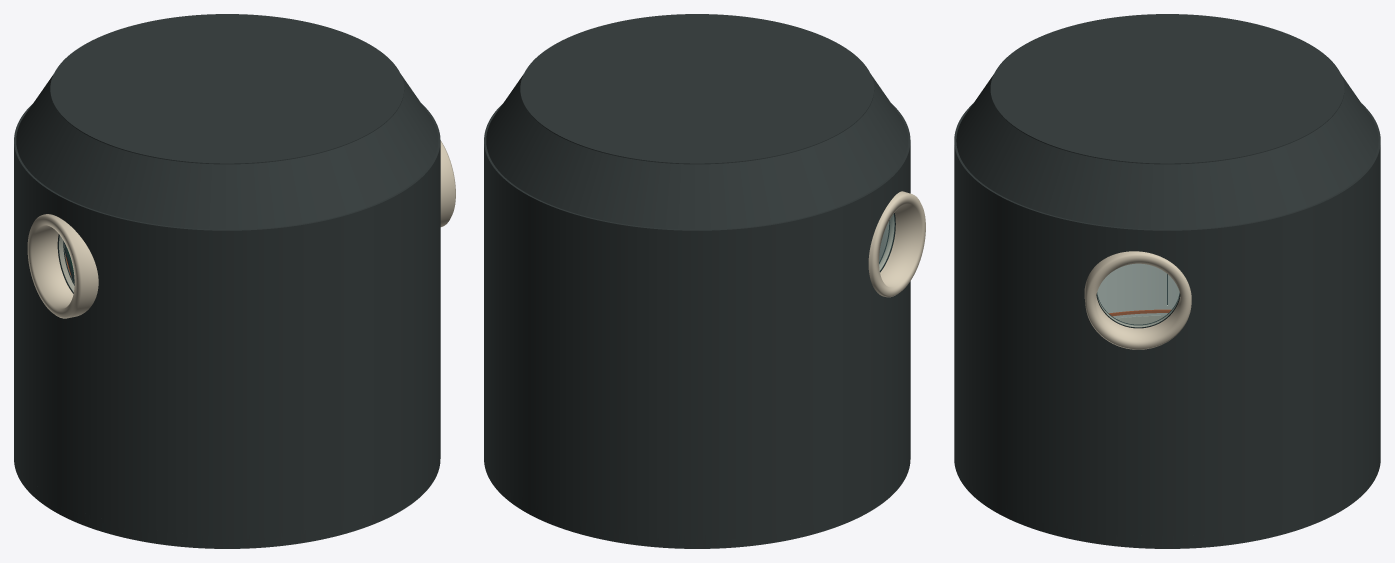
Rendered from CompactCockpit_WallIntegrated.glb.
The picture shows the model from 3 angles, left to right: view 1: azimuth 30°, elevation 25°; view 2: azimuth 150°, elevation 25°; view 3: azimuth 270°, elevation 25°; orthographic projection.
Visible parts, largest first — view 1: CircularRoof_Continuous.002, PressureShell_10.002, PressureShell_11.002, PressureShell_09.002, PressureShell_12.002, PressureShell_08.002, PressureShell_13.002, PressureShell_07.002, PortWindow_Left_Frame.001, RoofShoulder_Structure_10.002, RoofShoulder_Structure_11.002, CircularFloor_Continuous.002 (+10 smaller); view 2: CircularRoof_Continuous.002, PressureShell_05.002, PressureShell_04.002, PressureShell_06.002, PressureShell_03.002, PressureShell_07.002, PressureShell_02.002, PressureShell_08.002, RoofShoulder_Structure_05.002, RoofShoulder_Structure_04.002, CircularFloor_Continuous.002, RoofShoulder_Structure_06.002 (+9 smaller); view 3: CircularRoof_Continuous.002, PressureShell_00.002, PressureShell_01.002, PressureShell_14.002, PressureShell_15.002, PressureShell_02.002, PressureShell_13.002, PressureShell_03.002, PressureShell_12.002, RoofShoulder_Structure_00.002, RoofShoulder_Structure_15.002, CircularFloor_Continuous.002 (+9 smaller).
Part boxes in pixels (bbox=[...]): CircularRoof_Continuous.002: bbox=[50, 14, 404, 164]; PressureShell_10.002: bbox=[172, 227, 254, 539]; PressureShell_11.002: bbox=[255, 218, 333, 538]; PressureShell_09.002: bbox=[97, 211, 172, 536]; PressureShell_12.002: bbox=[333, 195, 396, 527]; PressureShell_08.002: bbox=[42, 185, 98, 520]; PressureShell_13.002: bbox=[395, 163, 433, 504]; PressureShell_07.002: bbox=[16, 152, 43, 494]; PortWindow_Left_Frame.001: bbox=[27, 214, 98, 318]; RoofShoulder_Structure_10.002: bbox=[172, 162, 254, 229]; RoofShoulder_Structure_11.002: bbox=[250, 154, 332, 228]; CircularFloor_Continuous.002: bbox=[14, 451, 440, 548]; CircularRoof_Continuous.002: bbox=[520, 14, 874, 164]; PressureShell_05.002: bbox=[669, 226, 752, 539]; PressureShell_04.002: bbox=[590, 218, 669, 538]; PressureShell_06.002: bbox=[752, 211, 826, 536]; PressureShell_03.002: bbox=[528, 195, 591, 527]; PressureShell_07.002: bbox=[826, 185, 881, 521]; PressureShell_02.002: bbox=[491, 163, 529, 504]; PressureShell_08.002: bbox=[880, 152, 908, 494]; RoofShoulder_Structure_05.002: bbox=[669, 162, 751, 229]; RoofShoulder_Structure_04.002: bbox=[591, 154, 673, 228]; CircularFloor_Continuous.002: bbox=[484, 447, 910, 548]; RoofShoulder_Structure_06.002: bbox=[743, 149, 825, 226]; CircularRoof_Continuous.002: bbox=[990, 14, 1344, 164]; PressureShell_00.002: bbox=[1167, 223, 1248, 539]; PressureShell_01.002: bbox=[1248, 203, 1318, 532]; PressureShell_14.002: bbox=[1016, 203, 1086, 532]; PressureShell_15.002: bbox=[1086, 223, 1167, 539]; PressureShell_02.002: bbox=[1317, 174, 1364, 513]; PressureShell_13.002: bbox=[970, 174, 1017, 513]; PressureShell_03.002: bbox=[1363, 140, 1380, 483]; PressureShell_12.002: bbox=[954, 140, 971, 483]; RoofShoulder_Structure_00.002: bbox=[1167, 158, 1247, 229]; RoofShoulder_Structure_15.002: bbox=[1087, 158, 1167, 229]; CircularFloor_Continuous.002: bbox=[954, 450, 1380, 548].
Bounding box in the file's own units: 2.4 × 2.25 × 2.35.
17 materials, 5 textured.
